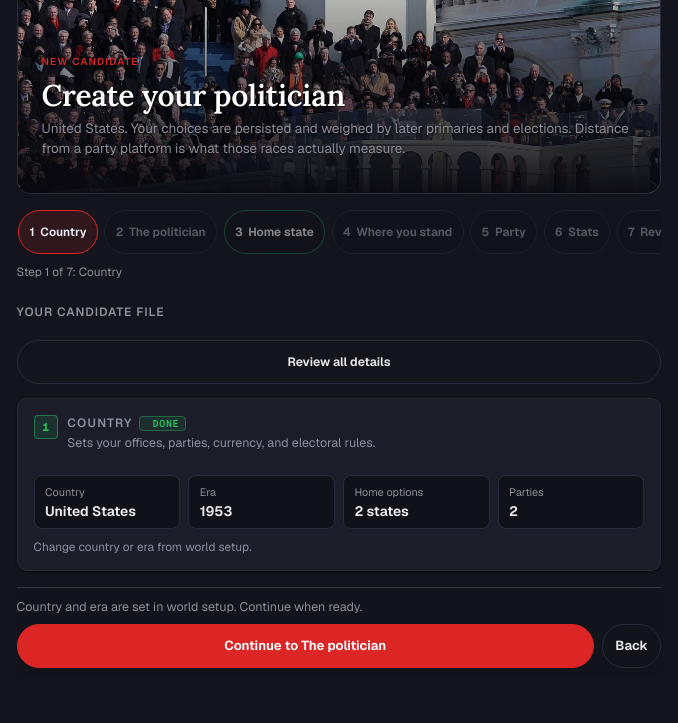
CharacterCreationScreen phone-first refinement (#242) › guides each step with a hint that names what still blocks Continue
Expected: the text with test id "creation-step-hint" shows "set in world setup", 17,598 -> 362,615
Click the button "Continue to The politician" at (305, 646), box 17,624 -> 594,668
(page scrolled)
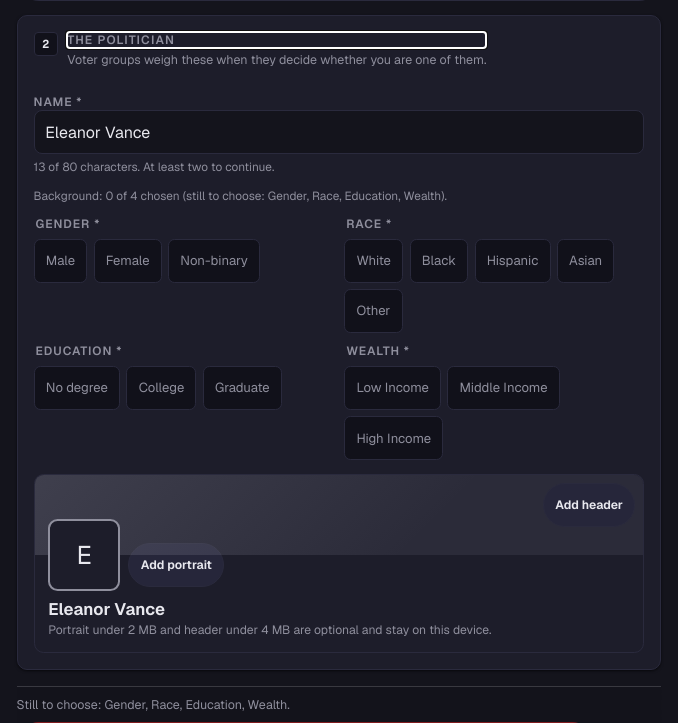
Now the text with test id "creation-step-hint" reads "Still to choose: Gender, Race, Education, Wealth.", box 17,696 -> 290,713
Click the button "Female" at (128, 261), box 94,239 -> 162,283
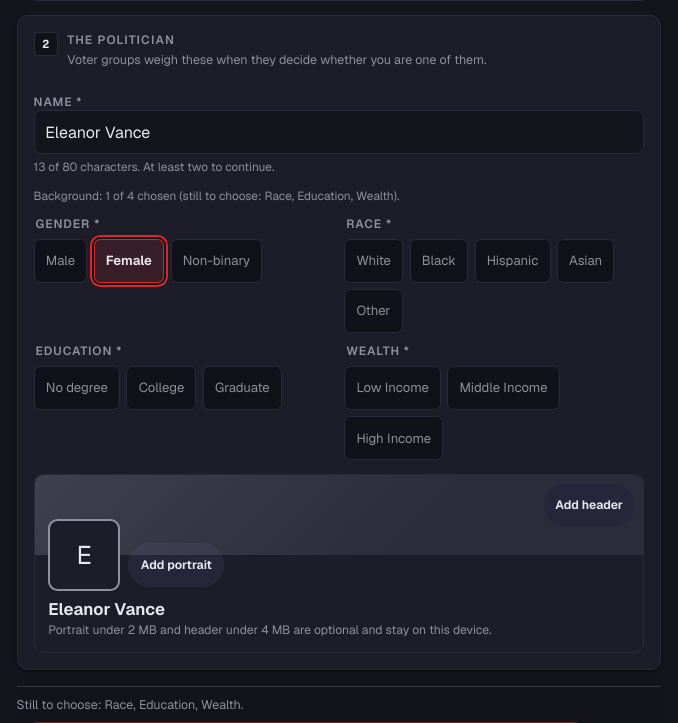
Click the button "White" at (374, 261), box 344,239 -> 403,283
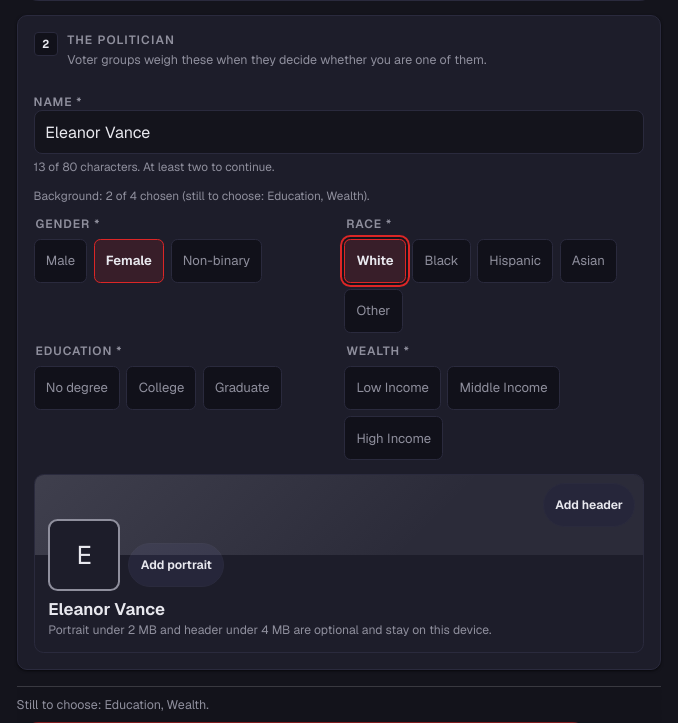
Click the button "College" at (162, 388), box 126,366 -> 196,410
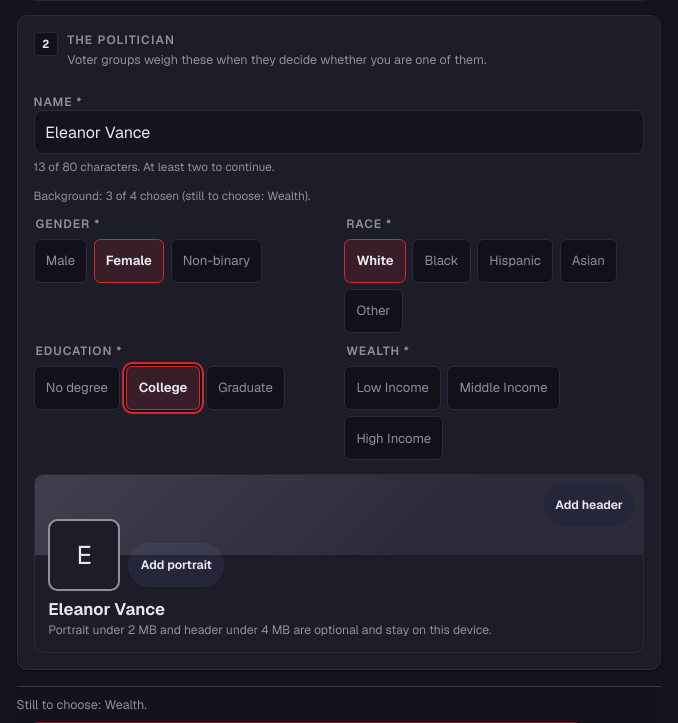
Click the button "Middle Income" at (504, 388), box 447,366 -> 560,410
(page scrolled)
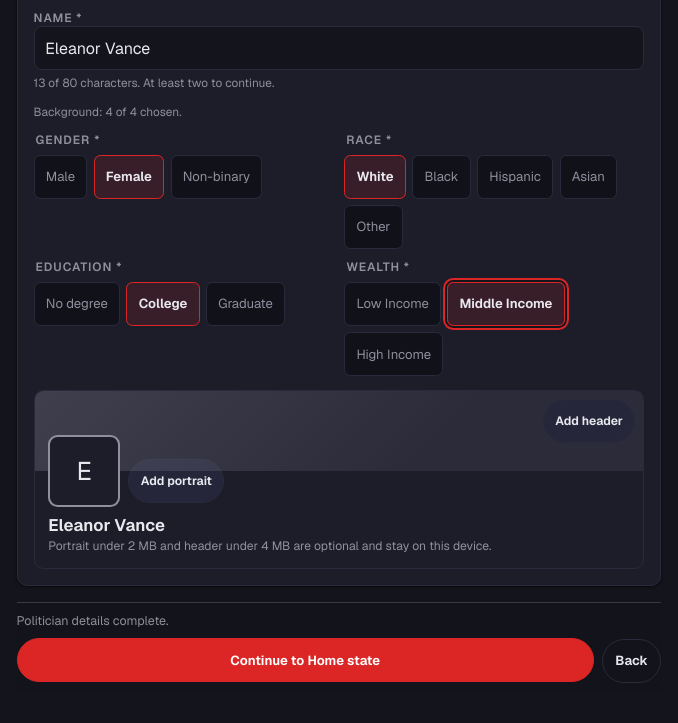
Now the text with test id "creation-step-hint" reads "Politician details complete.", box 17,612 -> 169,629
Now the button "Continue to Home state" is enabled, box 17,638 -> 594,682
